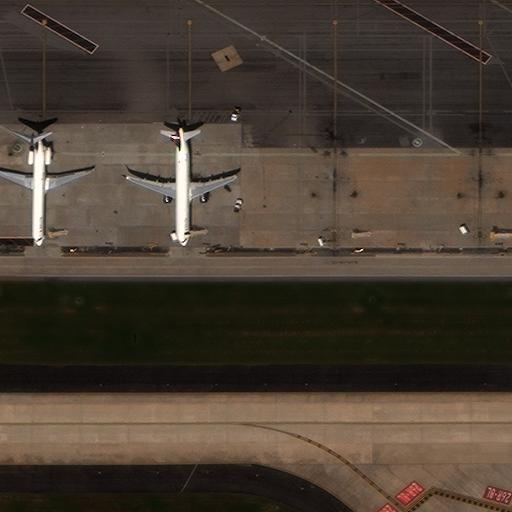Medium Civil Transport: (125, 125, 238, 249), (0, 130, 94, 249)
